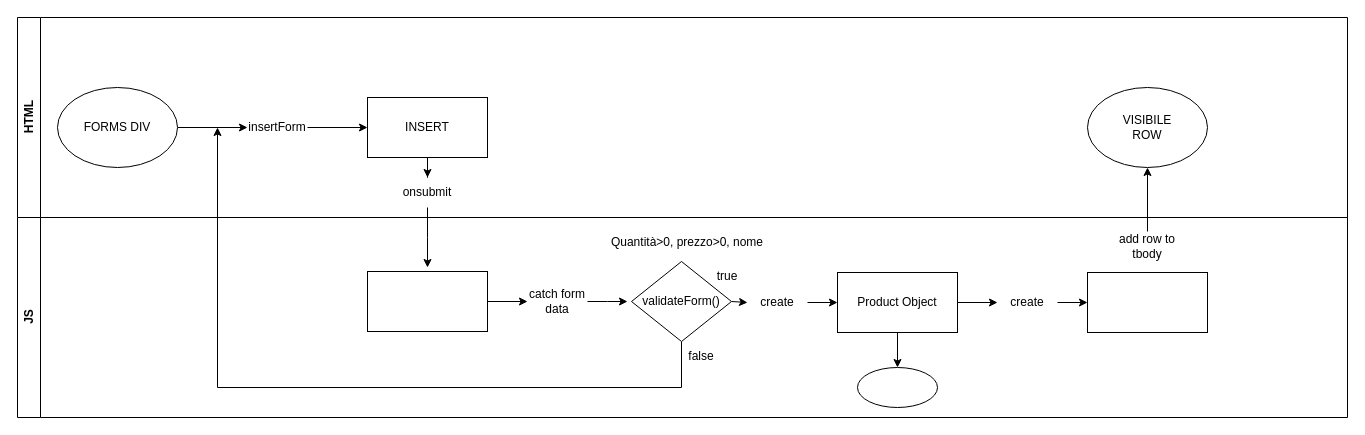
Image size: 1365x435. Some labels were removed from this diagram. The shapes that lost their labels are listed below. From the top down, each one's centre as x and y in pixels, then its label:
(x=427, y=301): insertProduct()
(x=1147, y=302): ROW
(x=897, y=387): Array
